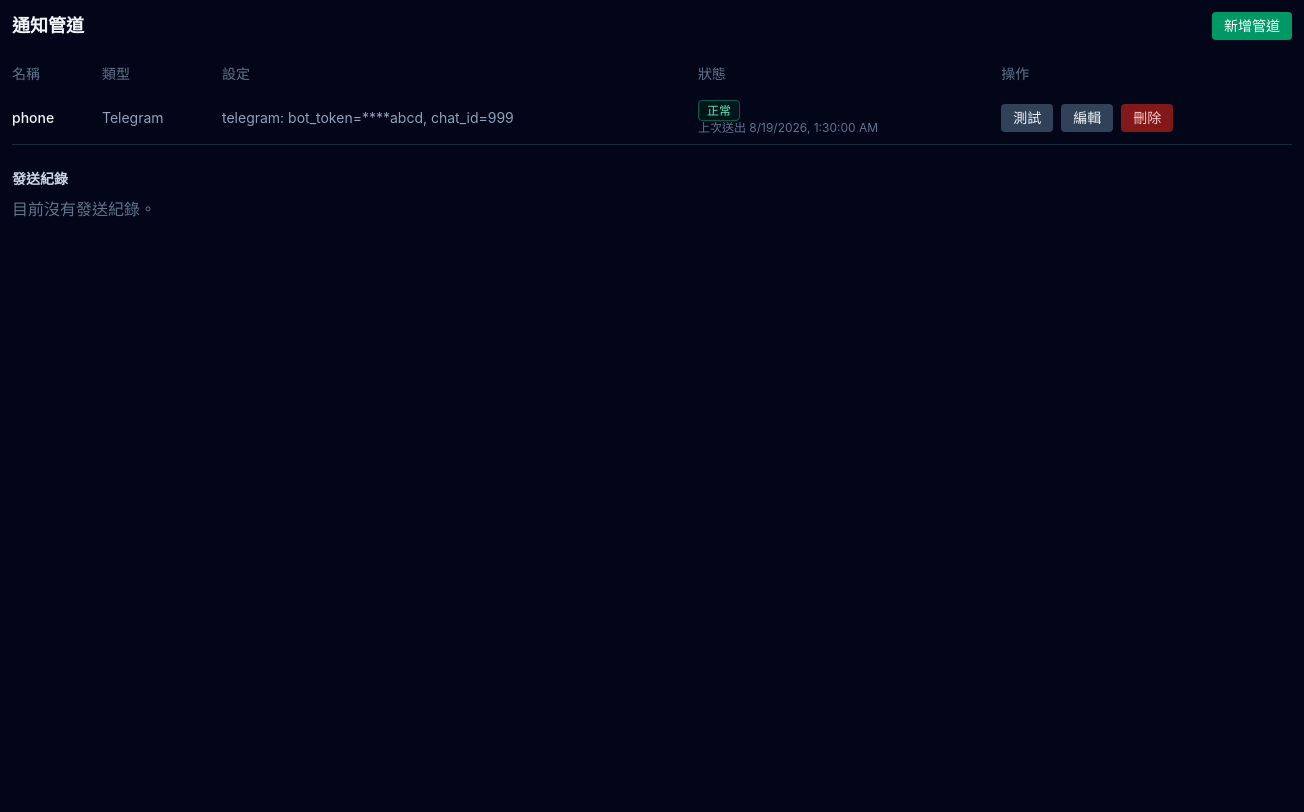
Test case: choosing which events a channel receives › shows everything ticked for a channel that never chose
Click the button "編輯": (1087, 118) 1061,104 -> 1113,132
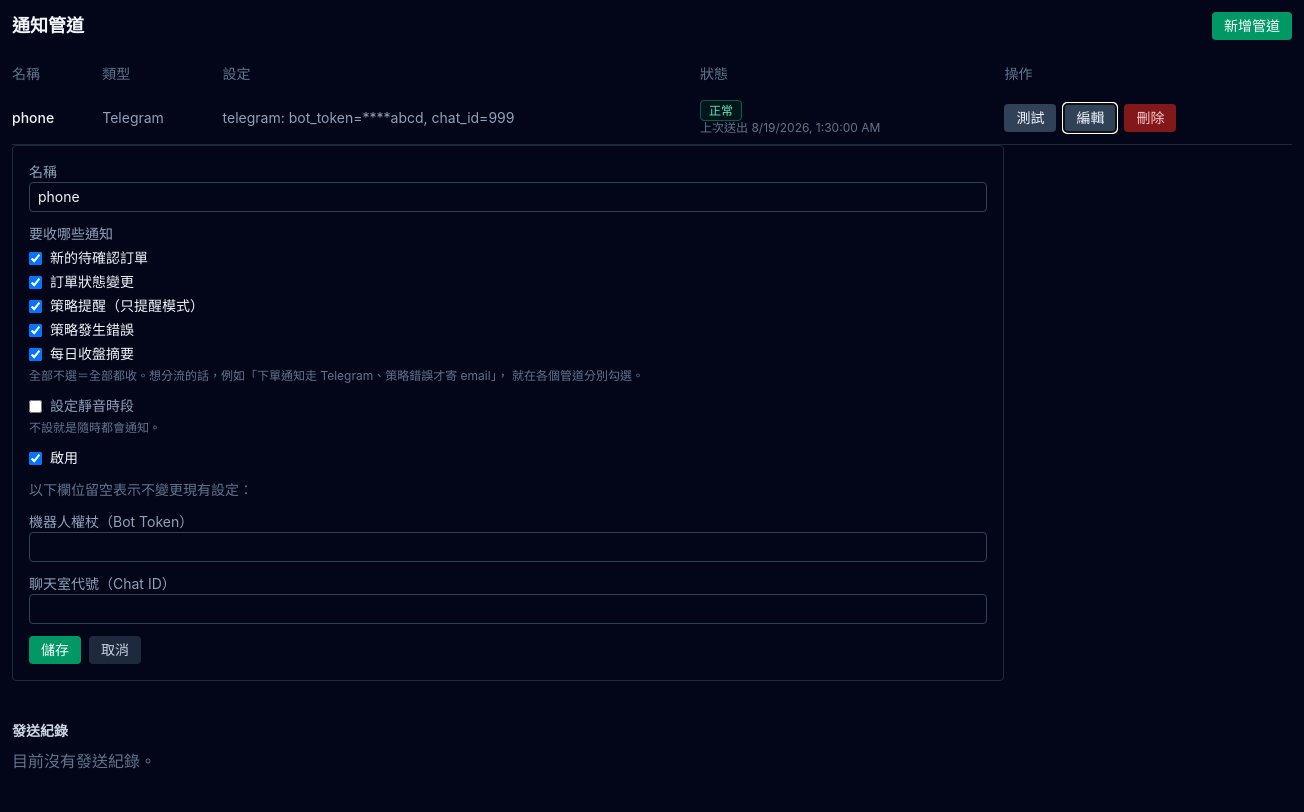
Result: the checkbox labelled "新的待確認訂單" is checked at 29,252 -> 42,264
Result: the checkbox labelled "策略發生錯誤" is checked at 29,324 -> 42,336
